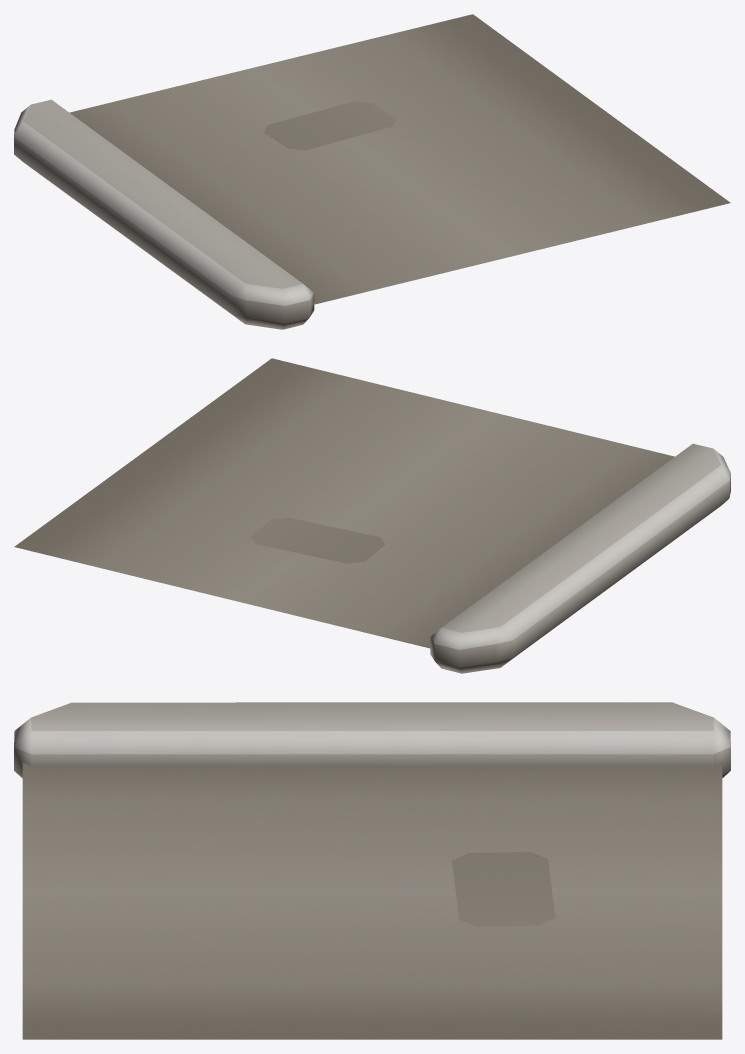
The model's file is path_park_tile_x2_one_side.fbx.
3 renders of one model, top to bottom at view 1: azimuth 30°, elevation 25°; view 2: azimuth 150°, elevation 25°; view 3: azimuth 270°, elevation 25°, orthographic. The views are drawn at different scales.
Parts seen in each view (by area): view 1: path_park_tile_x2_one_side; view 2: path_park_tile_x2_one_side; view 3: path_park_tile_x2_one_side.
Boxes of the visible parts, bbox=[...] form: path_park_tile_x2_one_side: bbox=[14, 14, 730, 329]; path_park_tile_x2_one_side: bbox=[14, 358, 730, 673]; path_park_tile_x2_one_side: bbox=[14, 702, 730, 1039].
Bounding box in the file's own units: 429 × 35 × 410.
